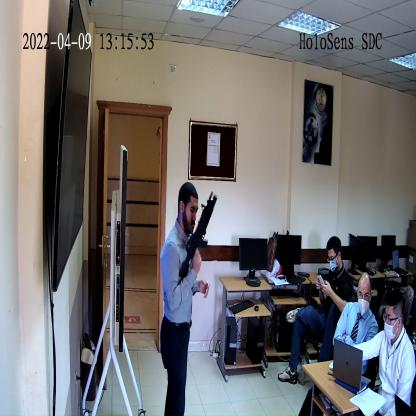handgun: (179, 197, 217, 278)
